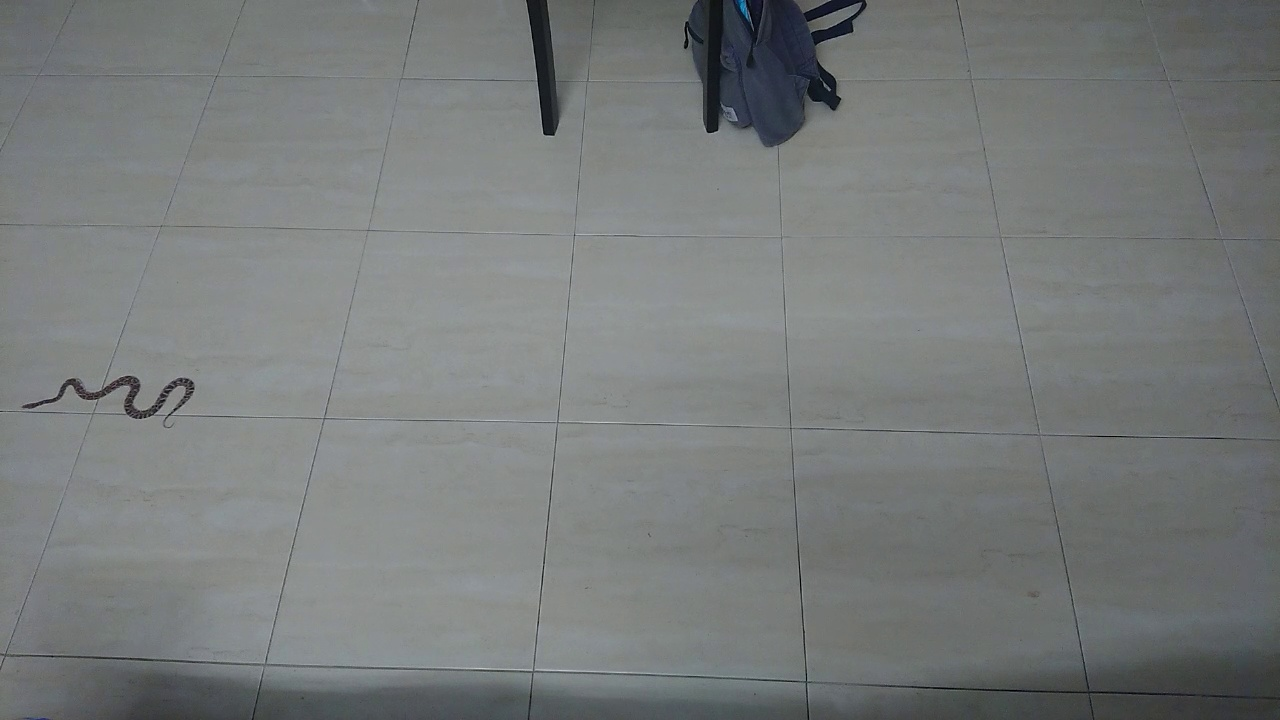snake: (4, 353, 222, 435)
